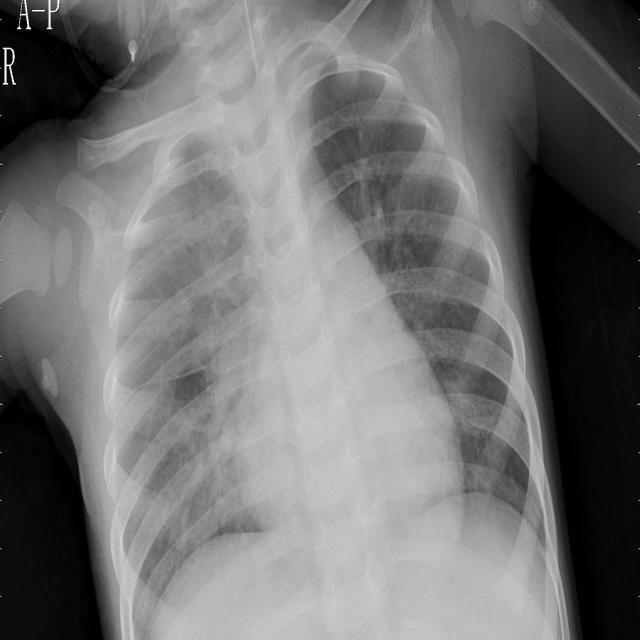low-pneumonia: (153, 166, 253, 523), (356, 114, 458, 360)
